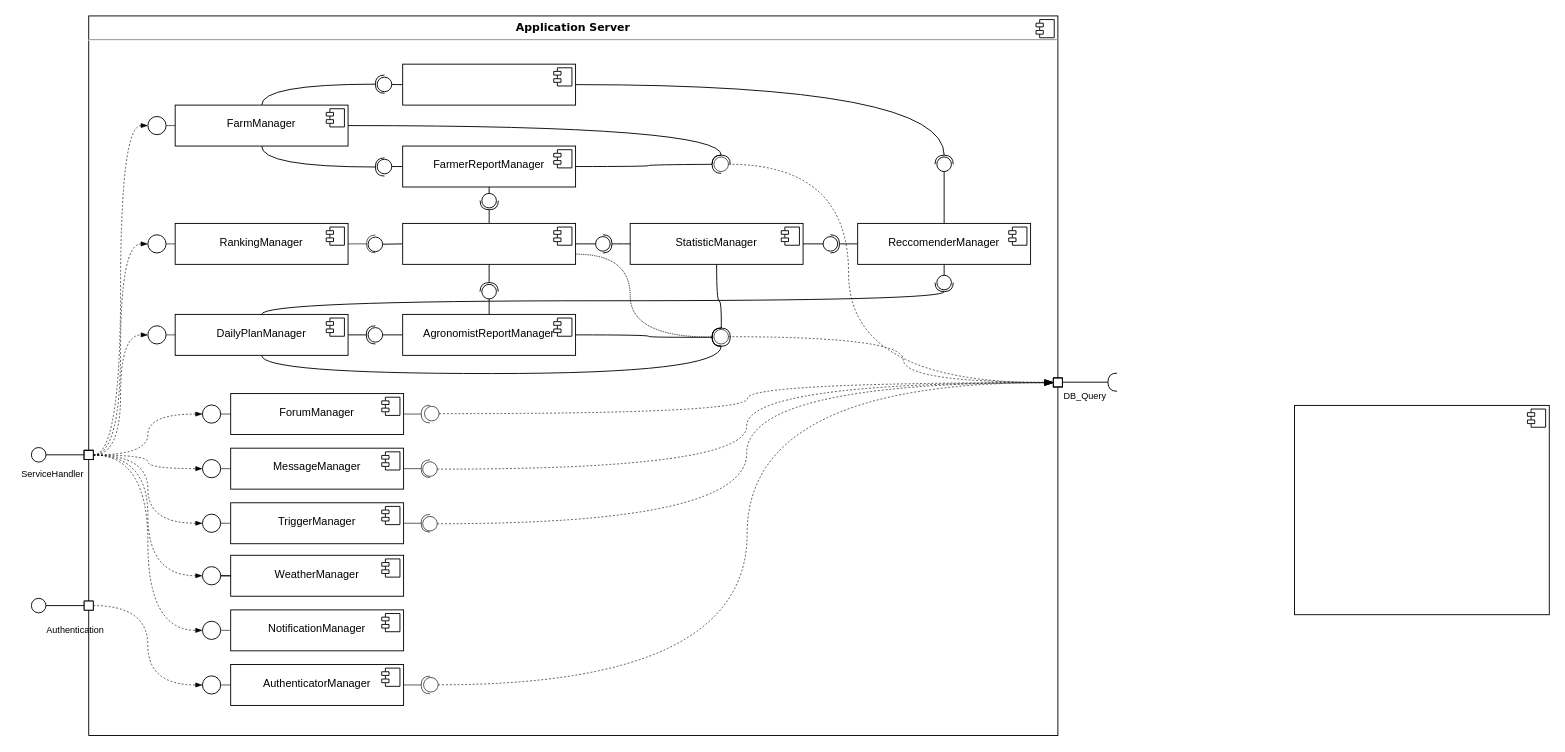
This 1565x752 diagram has some shape labels left out. The shapes that lost their labels are listed below. From the top down, each one's centre as x and y in pixels, then its label:
point 489,84: FarmerSuggestionManager
point 489,243: DataAggregationManager
point 1421,509: DREAM Cloud
